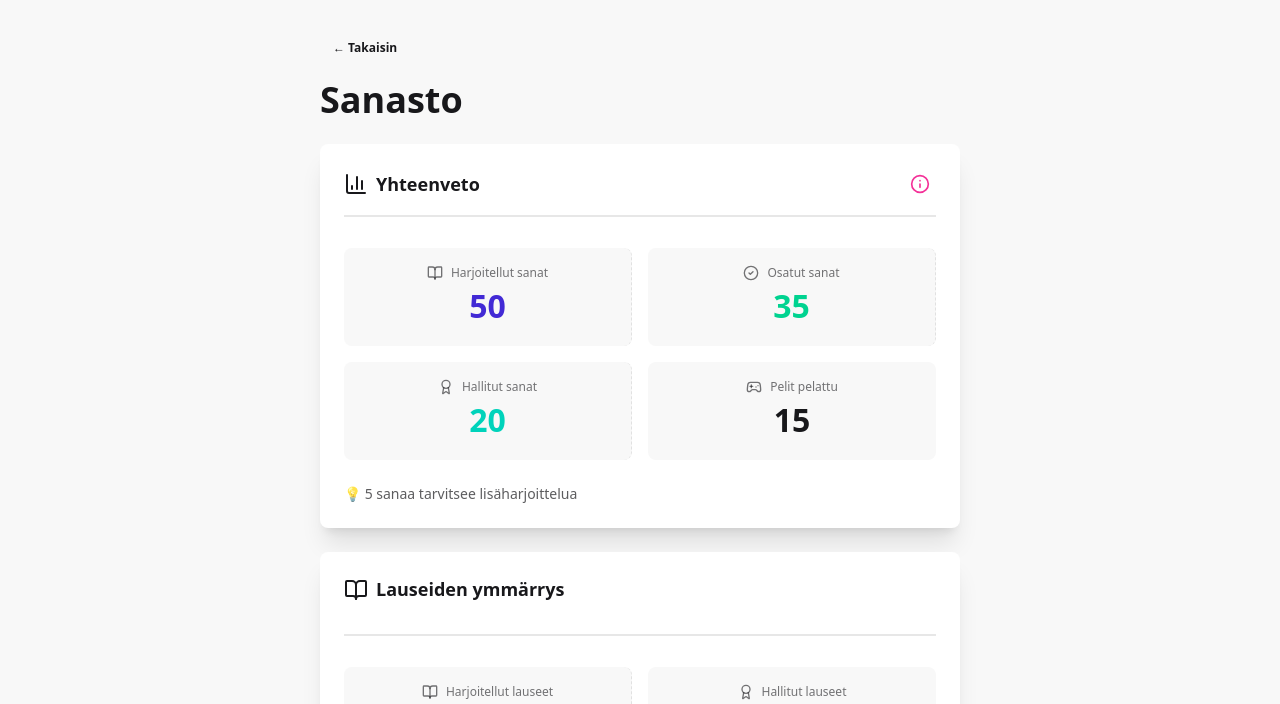
Scenario: Sanasto Page › opens dialog when mastered words is clicked
The width and height of the screenshot is (1280, 704).
Click the button "Hallitut sanat 20".
click(488, 411)  # box [344,362,632,460]
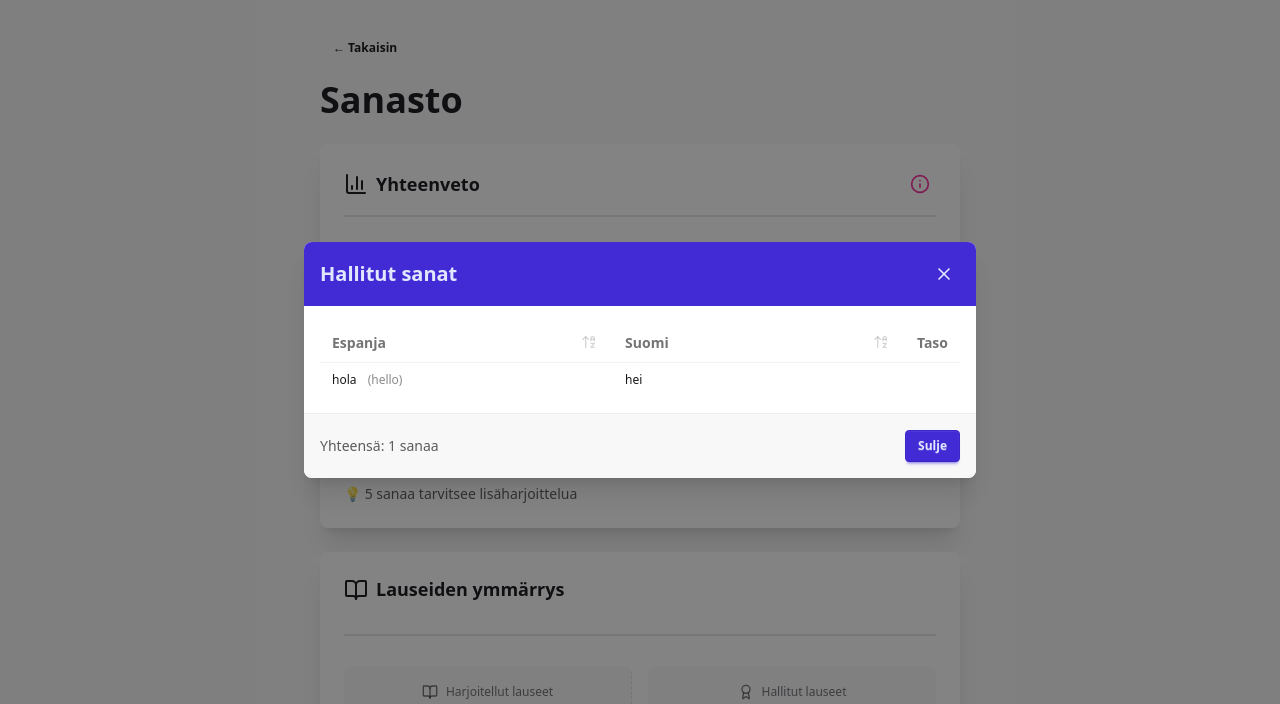
Result: the dialog is shown at [304,242,976,478]
Result: the heading "Hallitut sanat" is shown at [320,260,457,288]
